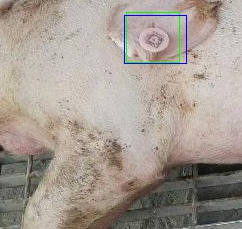text: (126, 12, 179, 62)
